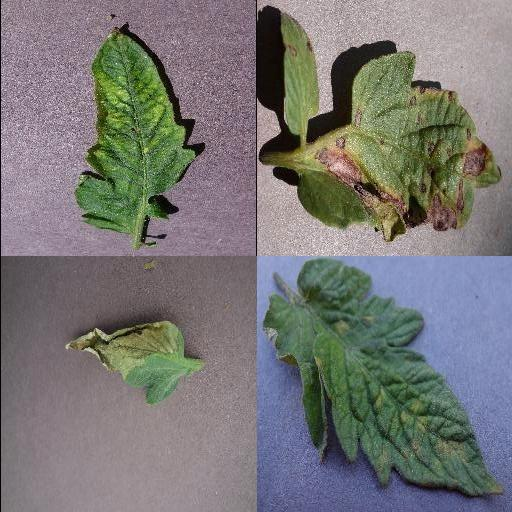Early Blight: (296, 51, 500, 243)
Late Blight: (60, 321, 186, 405)
Leaf Mold: (261, 259, 505, 496)
Mosaic Virus: (73, 25, 195, 235)
